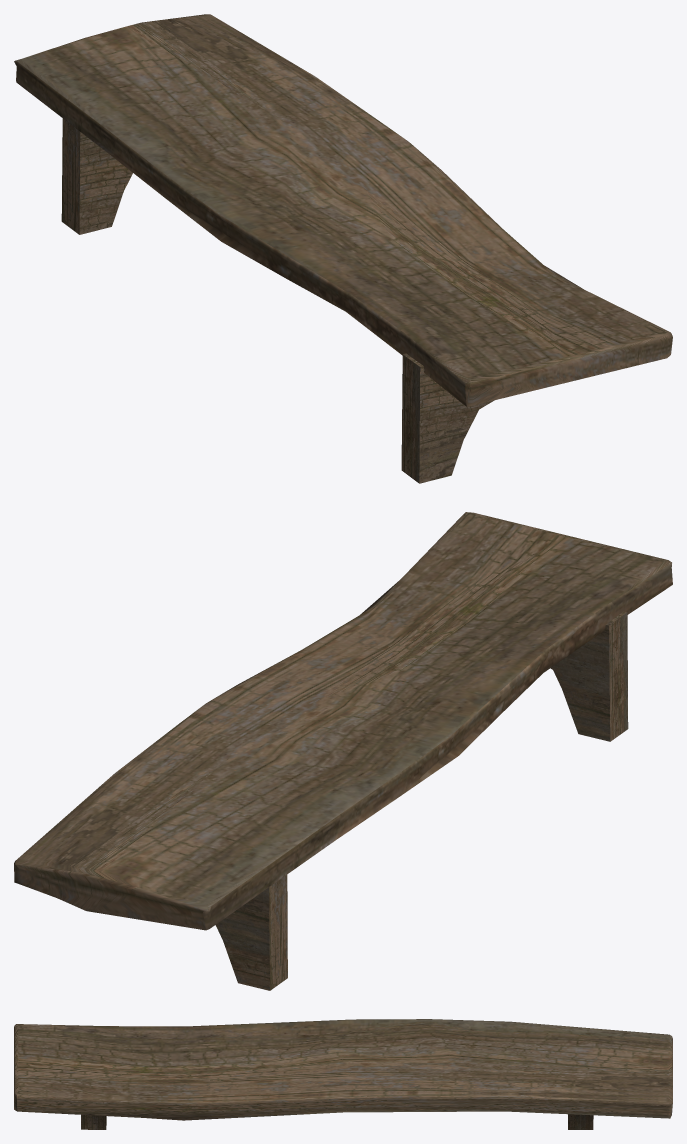
File: SM_Shelf01.fbx
3 renders of one model, top to bottom at view 1: azimuth 30°, elevation 25°; view 2: azimuth 150°, elevation 25°; view 3: azimuth 270°, elevation 25°, orthographic. The views are drawn at different scales.
Parts seen in each view (by area): view 1: SM_Shelf01_LOD0; view 2: SM_Shelf01_LOD0; view 3: SM_Shelf01_LOD0.
Boxes of the visible parts, bbox=[...] form: SM_Shelf01_LOD0: bbox=[14, 14, 672, 483]; SM_Shelf01_LOD0: bbox=[14, 512, 672, 990]; SM_Shelf01_LOD0: bbox=[14, 1019, 672, 1129].
Size of the model in its own units: 37.92 by 135 by 21.87.
